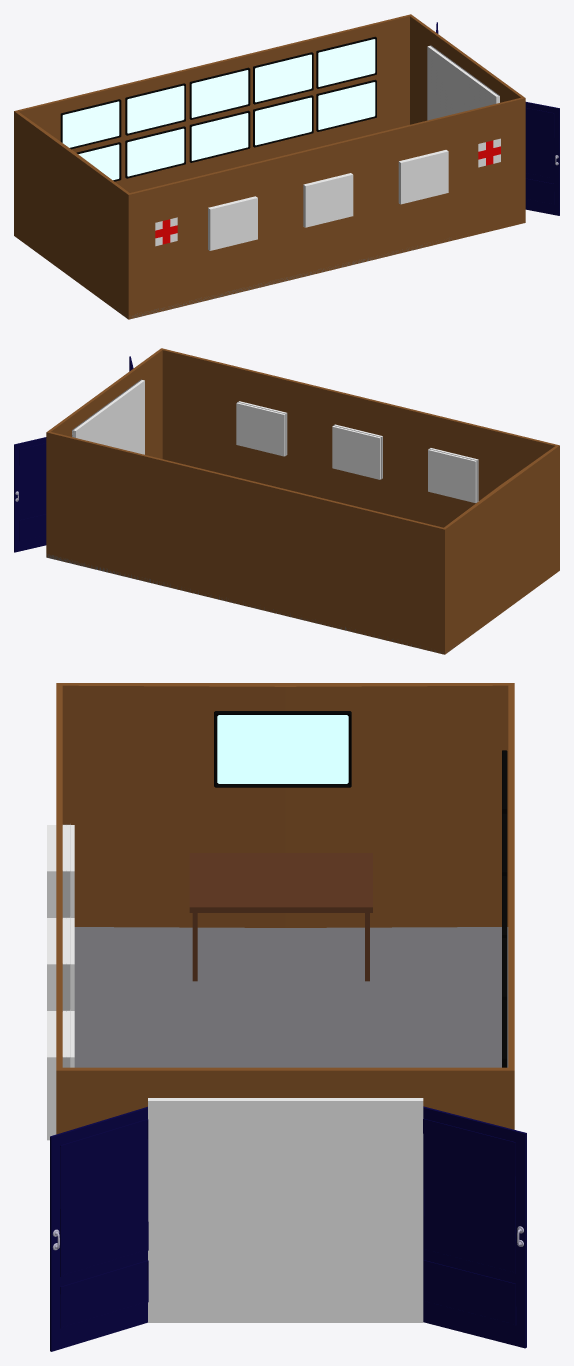
Rendered from beachHouse.fbx.
3 renders of one model, top to bottom at view 1: azimuth 30°, elevation 25°; view 2: azimuth 150°, elevation 25°; view 3: azimuth 270°, elevation 25°, orthographic. The views are drawn at different scales.
Visible parts, largest first — view 1: Walls, Door, CTRL_Hole, CTRL_Hole.002, CTRL_Hole.001, CTRL_Hole.003, Display.006, Display.001, Display.004, Display.009, Display.002, Display.007 (+14 smaller); view 2: Walls, Door.001, CTRL_Hole, CTRL_Hole.001, CTRL_Hole.002, CTRL_Hole.003, Floor; view 3: Walls, CTRL_Hole, Floor, Door.001, Door, Cube, Display.010, CTRL_Hole.001, CTRL_Hole.002, CTRL_Hole.003, TVplastic.010.
Part boxes in pixels (<box>): Walls: <box>14,14,525,319</box>; Door: <box>525,102,559,215</box>; CTRL_Hole: <box>427,46,499,120</box>; CTRL_Hole.002: <box>303,173,353,227</box>; CTRL_Hole.001: <box>398,150,448,204</box>; CTRL_Hole.003: <box>208,196,257,250</box>; Display.006: <box>127,128,184,176</box>; Display.001: <box>127,85,184,133</box>; Display.004: <box>318,39,375,86</box>; Display.009: <box>318,82,375,129</box>; Display.002: <box>191,70,248,117</box>; Display.007: <box>191,113,248,160</box>; Walls: <box>46,348,559,654</box>; Door.001: <box>14,437,46,552</box>; CTRL_Hole: <box>72,380,144,454</box>; CTRL_Hole.001: <box>236,401,286,456</box>; CTRL_Hole.002: <box>332,424,382,479</box>; CTRL_Hole.003: <box>428,448,477,503</box>; Floor: <box>46,553,472,653</box>; Walls: <box>56,683,514,1134</box>; CTRL_Hole: <box>148,1098,423,1322</box>; Floor: <box>74,927,508,1067</box>; Door.001: <box>423,1106,526,1348</box>; Door: <box>50,1106,148,1351</box>; Cube: <box>189,853,372,981</box>; Display.010: <box>217,715,348,783</box>; CTRL_Hole.001: <box>47,1011,74,1140</box>; CTRL_Hole.002: <box>47,918,74,1010</box>; CTRL_Hole.003: <box>47,825,74,917</box>; TVplastic.010: <box>214,711,351,787</box>.
Size of the model in its own units: 1085 by 310 by 523.
